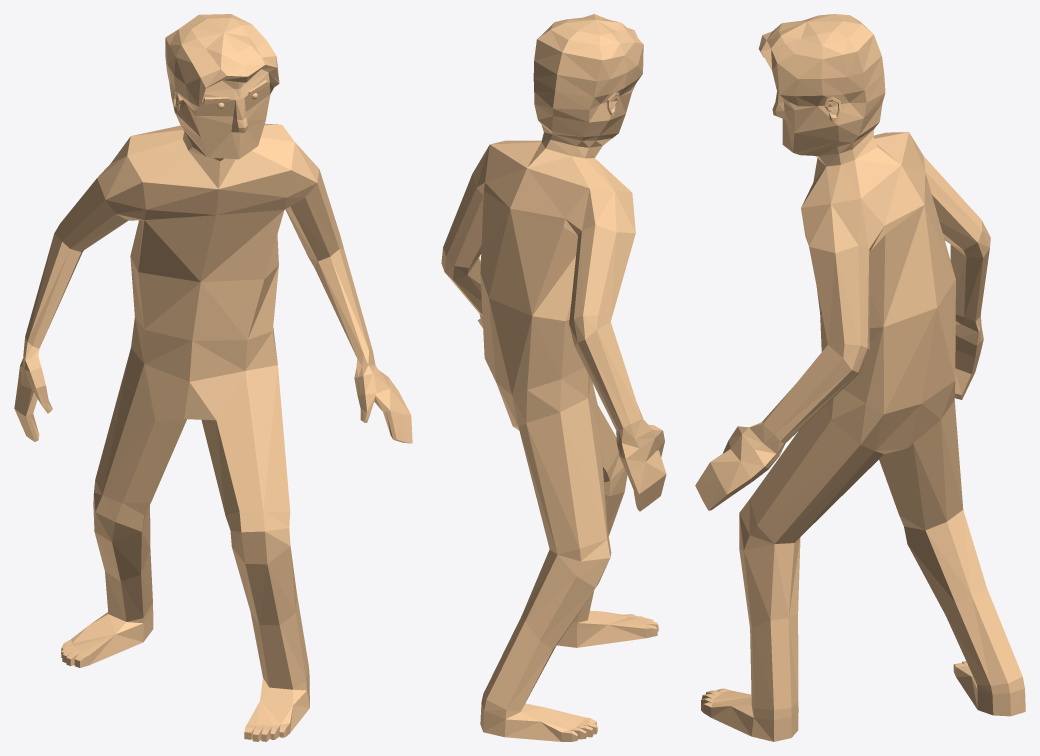
File: Human.obj
The picture shows the model from 3 angles, left to right: view 1: azimuth 30°, elevation 25°; view 2: azimuth 150°, elevation 25°; view 3: azimuth 270°, elevation 25°; orthographic projection. The views are drawn at different scales.
Visible parts, largest first — view 1: Human_Mesh; view 2: Human_Mesh; view 3: Human_Mesh.
Part boxes in pixels (x1,y1,x2,y2): Human_Mesh: (14, 14, 412, 741); Human_Mesh: (441, 14, 666, 741); Human_Mesh: (695, 14, 1025, 741).
Size of the model in its own units: 2.33 by 5.26 by 2.29.
Materials: 1 (1 with a texture image).
